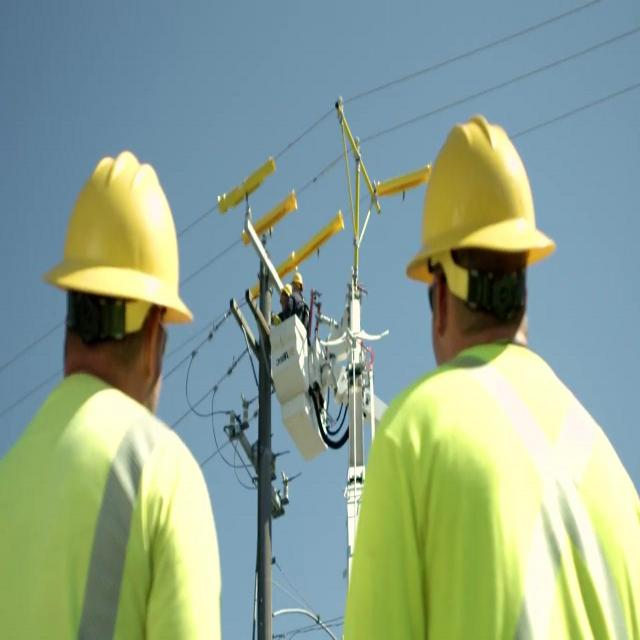Reflective-Jacket: (345, 343, 637, 640), (2, 378, 219, 640)
Safety-Helmet: (43, 144, 193, 330), (406, 110, 556, 290), (292, 270, 305, 292)
